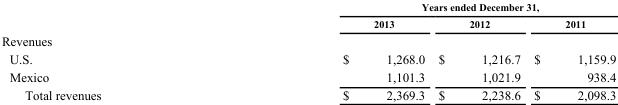table: (0, 0, 615, 101)
table column: (0, 0, 221, 101), (221, 0, 430, 101), (430, 0, 526, 101), (526, 0, 615, 101)
table column header: (0, 0, 615, 31)
table projected row header: (0, 31, 615, 49)
table row: (0, 31, 615, 49), (0, 49, 615, 67), (0, 67, 615, 85), (0, 15, 615, 31), (0, 85, 615, 101), (0, 0, 615, 15)
table spanning cell: (221, 0, 615, 15)
